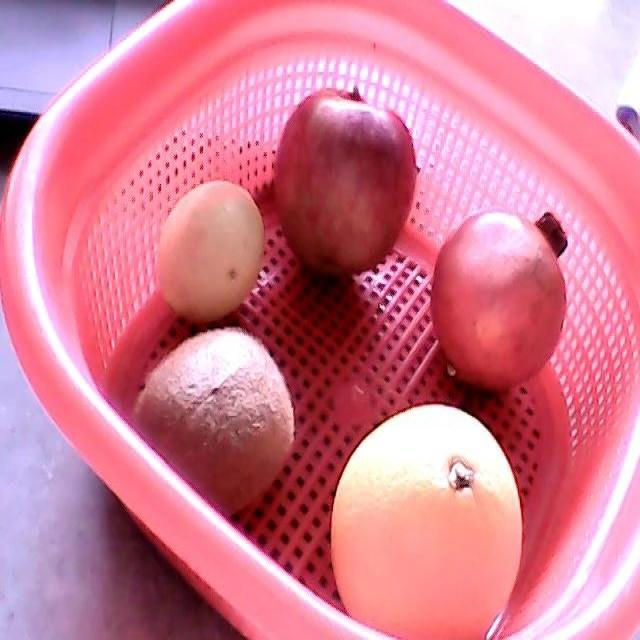apple: (276, 90, 418, 278)
kiwi: (131, 329, 293, 517)
lemon: (157, 182, 264, 325)
orange: (331, 403, 522, 639)
pomegranate: (430, 209, 571, 390)
